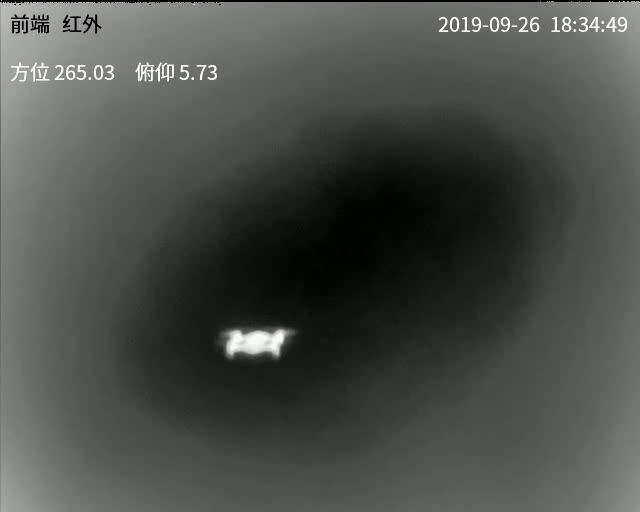DRONE: (223, 328, 289, 359)
